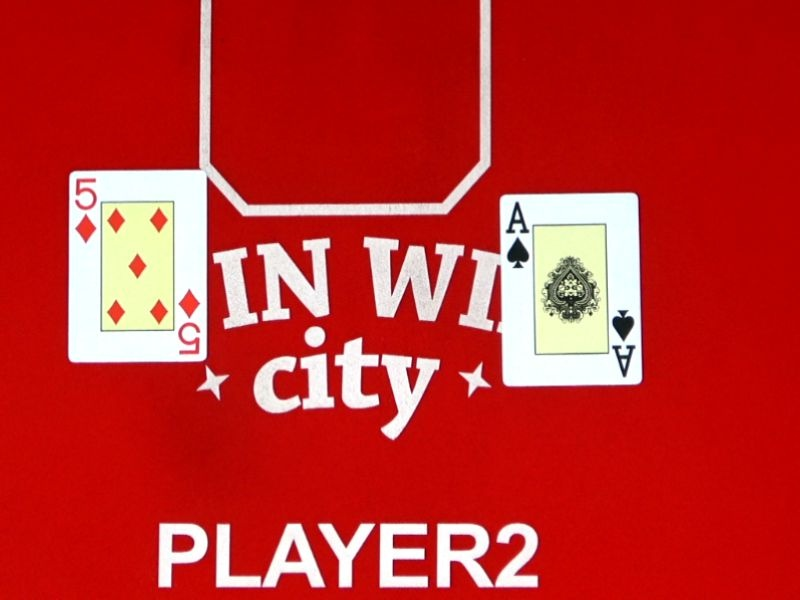5D: (46, 173, 127, 248), (154, 287, 229, 357)
AS: (478, 201, 557, 274), (586, 308, 664, 379)
